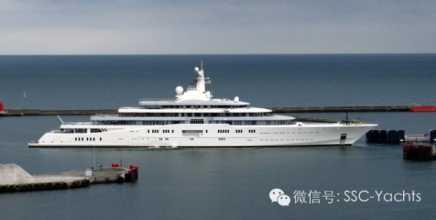yacht: (26, 72, 375, 149)
